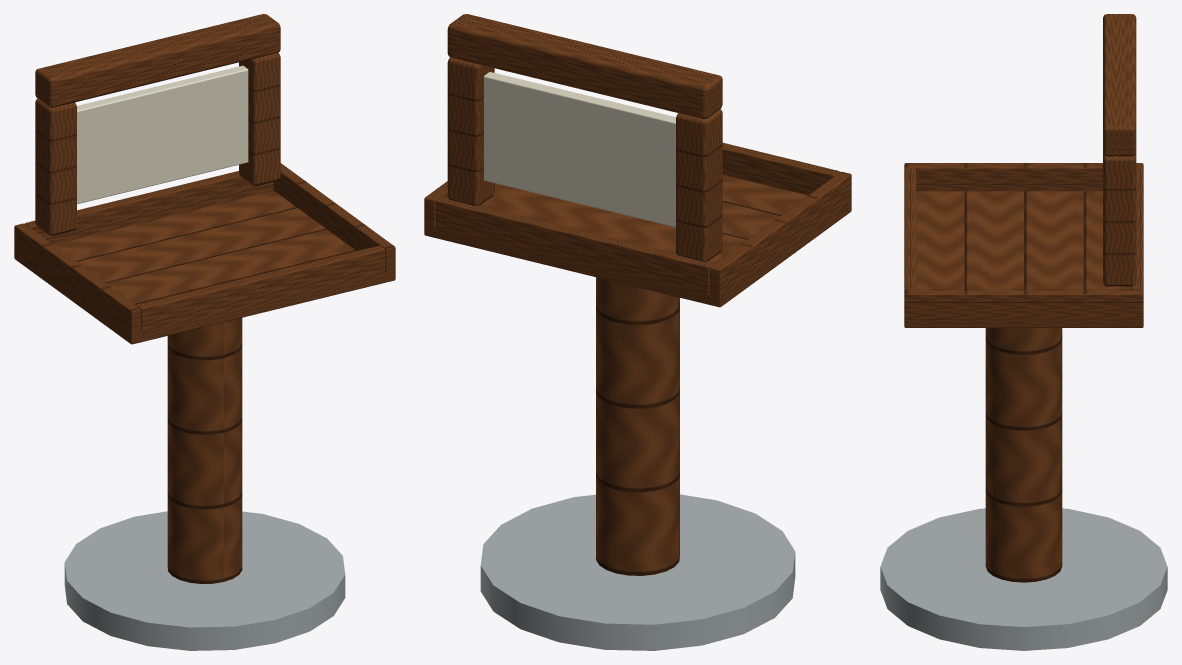
3 views of the same model, side by side, from view 1: azimuth 30°, elevation 25°; view 2: azimuth 150°, elevation 25°; view 3: azimuth 270°, elevation 25° (orthographic). The views are drawn at different scales.
Parts seen in each view (by area): view 1: barter-offer-pedestal; view 2: barter-offer-pedestal; view 3: barter-offer-pedestal.
Boxes of the visible parts, <box> form: barter-offer-pedestal: <box>14,14,395,650</box>; barter-offer-pedestal: <box>424,14,851,650</box>; barter-offer-pedestal: <box>880,14,1167,650</box>.
Bounding box in the file's own units: 0.65 × 1.2 × 0.6.
Materials: 3 (1 with a texture image).
